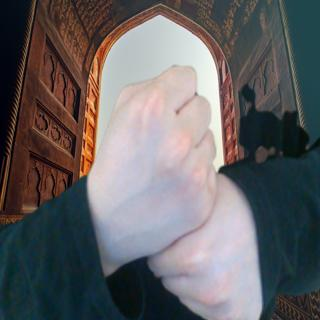CAREFUL: (83, 54, 265, 320)
